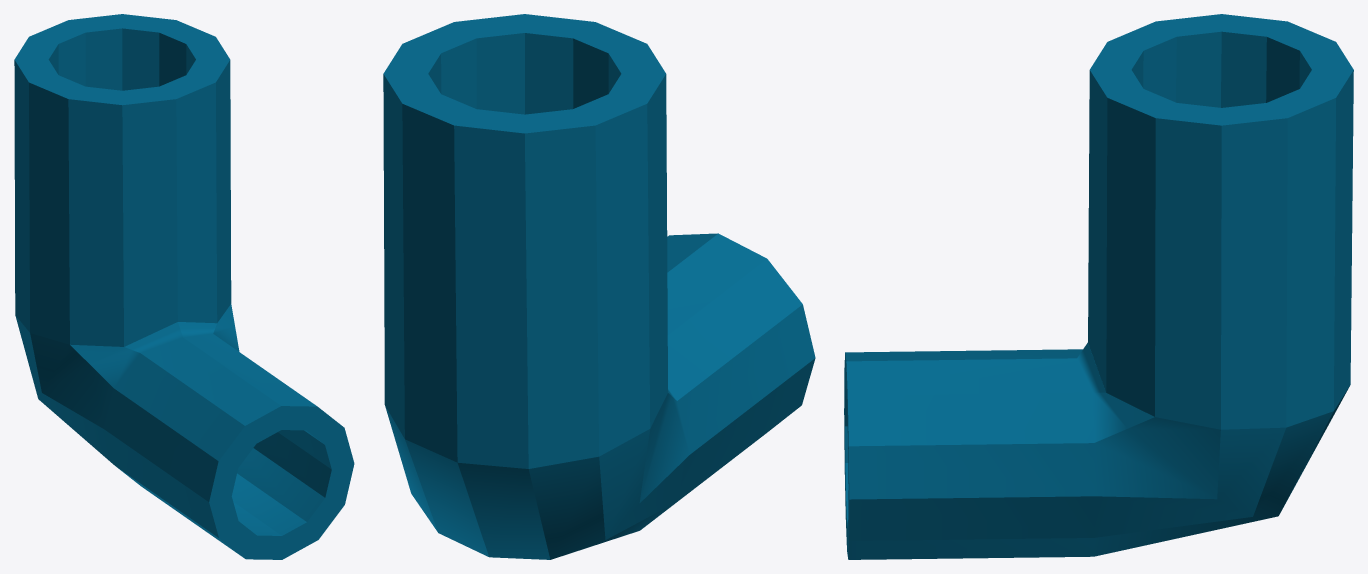
File: tubo.fbx
3 views of the same model, side by side, from view 1: azimuth 30°, elevation 25°; view 2: azimuth 150°, elevation 25°; view 3: azimuth 270°, elevation 25° (orthographic). The views are drawn at different scales.
Visible parts, largest first — view 1: pCylinder5; view 2: pCylinder5; view 3: pCylinder5.
Part boxes in pixels (x1,y1,x2,y2): pCylinder5: [14, 14, 354, 559]; pCylinder5: [383, 14, 815, 559]; pCylinder5: [844, 14, 1353, 559].
Size of the model in its own units: 2.78 by 5.52 by 5.34.
